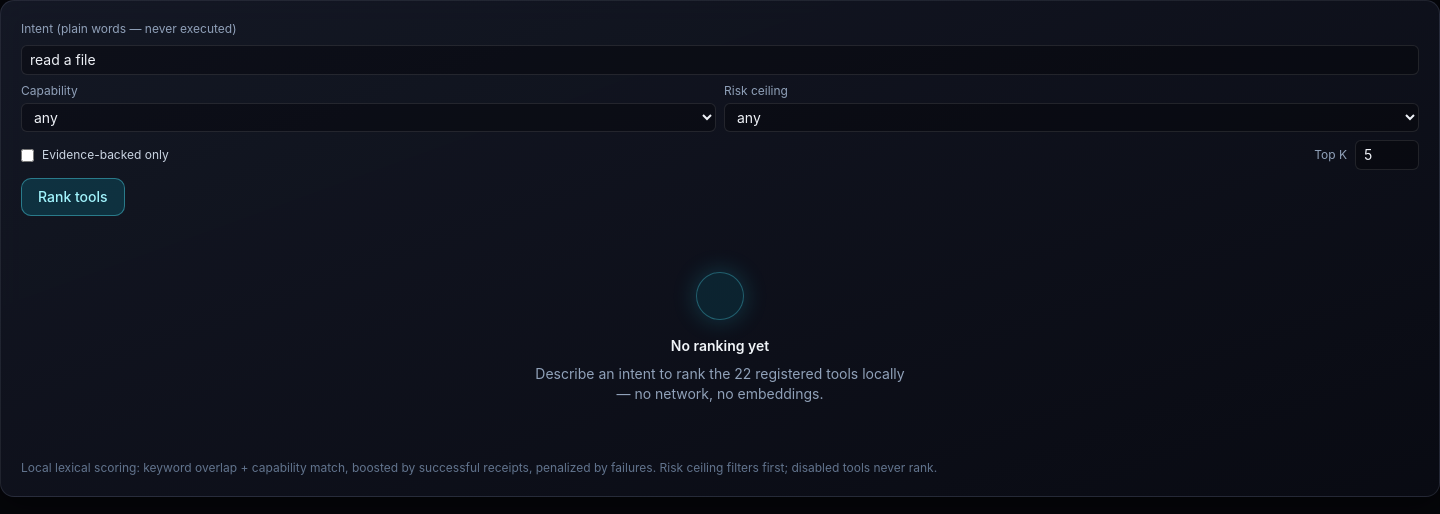
ToolRagPanel › shows an empty state when filters exclude everything
Click the button "Rank tools" at (73, 197), box [21,178,124,216]
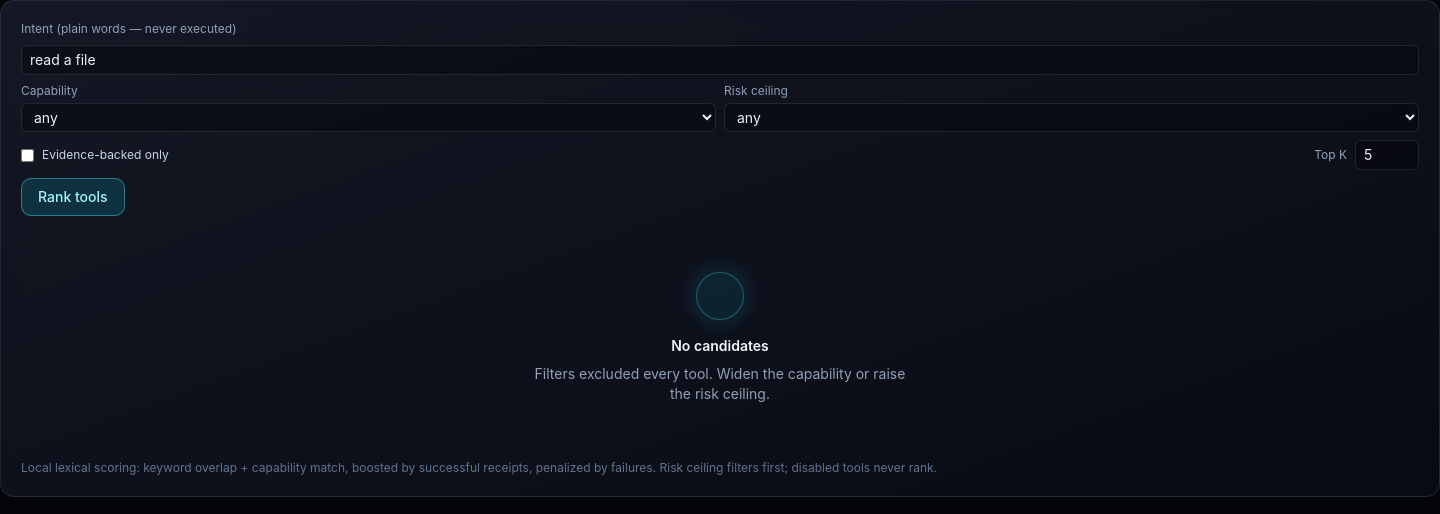
Expected: the heading "No candidates" is shown, [671,336,769,356]
